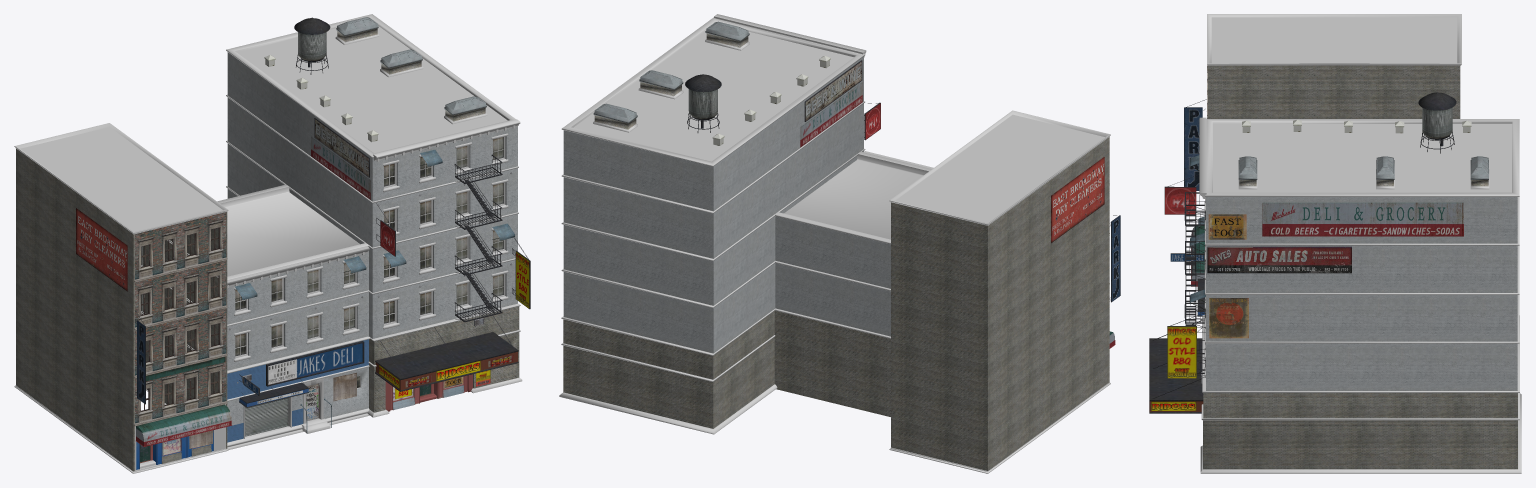
The model's file is u2NWBuild11.gltf.
The picture shows the model from 3 angles, left to right: view 1: azimuth 30°, elevation 25°; view 2: azimuth 150°, elevation 25°; view 3: azimuth 270°, elevation 25°; orthographic projection. The views are drawn at different scales.
Visible parts, largest first — view 1: u2NWBuild11; view 2: u2NWBuild11; view 3: u2NWBuild11.
Part boxes in pixels (box(x1,y1,x2,y2)): u2NWBuild11: box(14, 14, 530, 473); u2NWBuild11: box(559, 14, 1120, 473); u2NWBuild11: box(1149, 14, 1521, 473).
Bounding box in the file's own units: 13.07 × 10 × 10.17.
